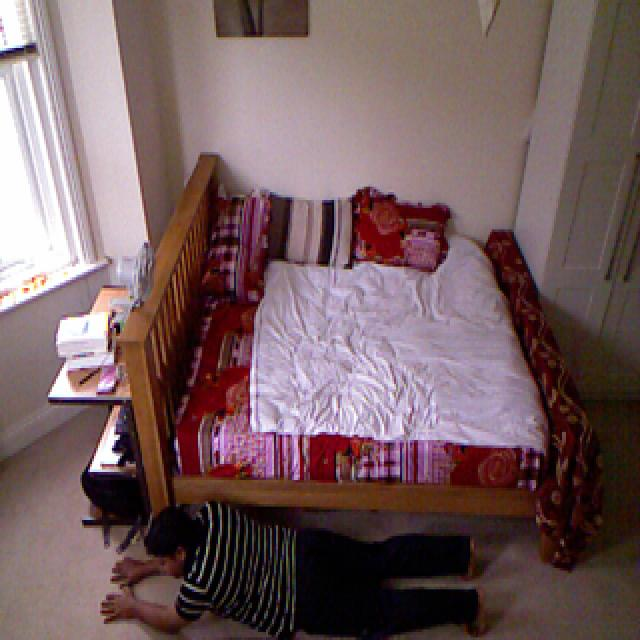lying: (96, 494, 491, 640)
